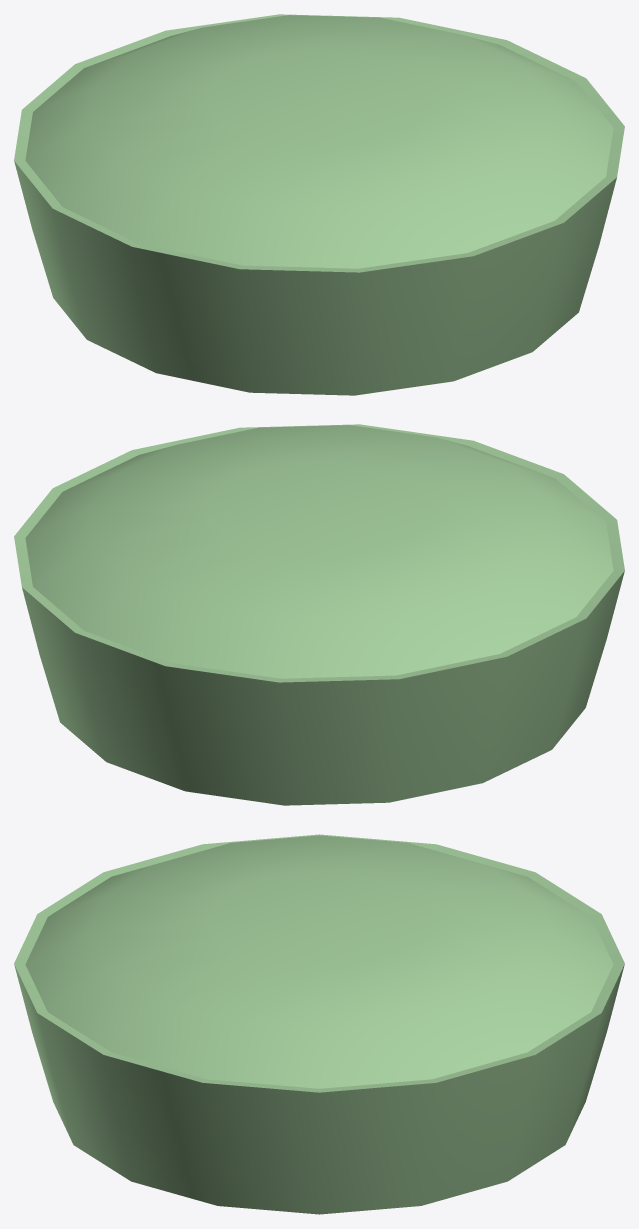
Rendered from apple_pie.fbx.
3 renders of one model, top to bottom at view 1: azimuth 30°, elevation 25°; view 2: azimuth 150°, elevation 25°; view 3: azimuth 270°, elevation 25°, orthographic.
Visible parts, largest first — view 1: apple_pie; view 2: apple_pie; view 3: apple_pie.
Boxes of the visible parts, left/top/right/bottom form: apple_pie: left=14, top=14, right=624, bottom=395; apple_pie: left=14, top=424, right=624, bottom=805; apple_pie: left=14, top=834, right=624, bottom=1214.
Size of the model in its own units: 60 by 20.03 by 60.
